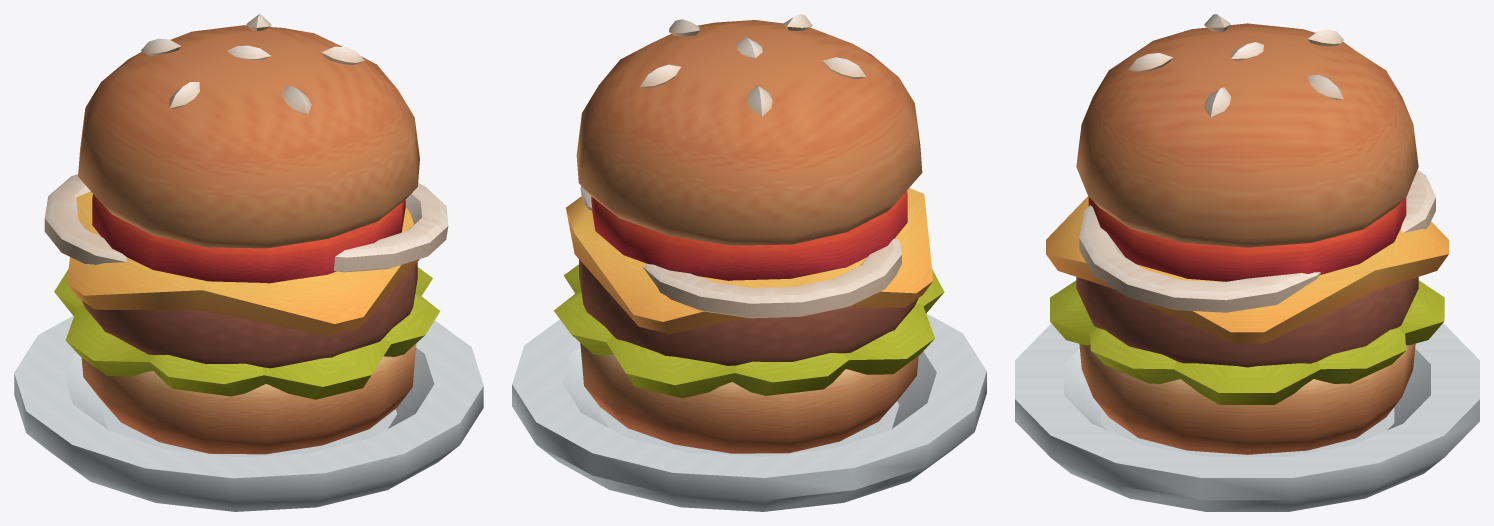
The model's file is food_burger.gltf.
3 views of the same model, side by side, from view 1: azimuth 30°, elevation 25°; view 2: azimuth 150°, elevation 25°; view 3: azimuth 270°, elevation 25° (orthographic).
Visible parts, largest first — view 1: food_burger; view 2: food_burger; view 3: food_burger.
Boxes of the visible parts, left/top/right/bottom form: food_burger: left=14, top=14, right=483, bottom=511; food_burger: left=512, top=14, right=986, bottom=511; food_burger: left=1015, top=14, right=1479, bottom=511.
Size of the model in its own units: 0.95 by 0.8572 by 0.95.
1 material, 1 textured.
